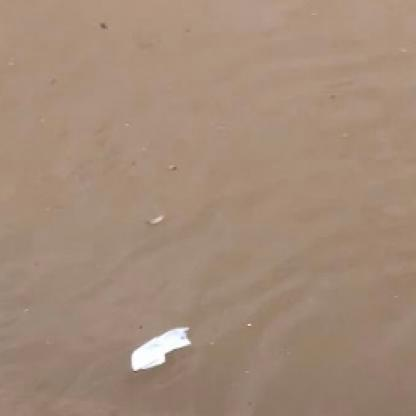Trash: (128, 324, 198, 374)
